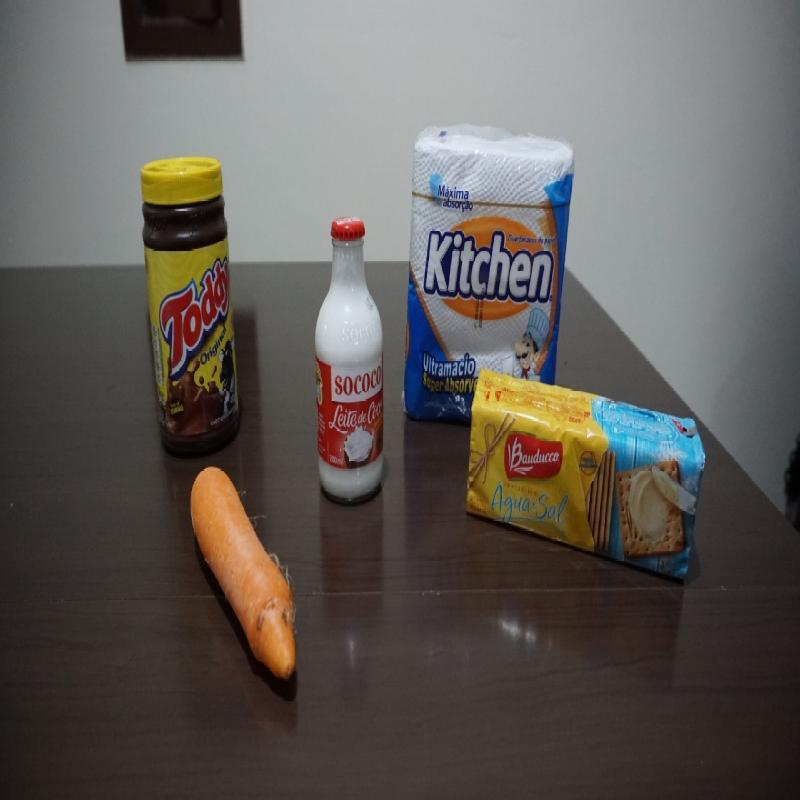Carrot: (188, 465, 298, 683)
Chocolate Powder: (139, 153, 245, 458)
Coconut Milk: (314, 211, 384, 509)
Cracker: (464, 366, 708, 582)
Napkin: (398, 121, 574, 430)
